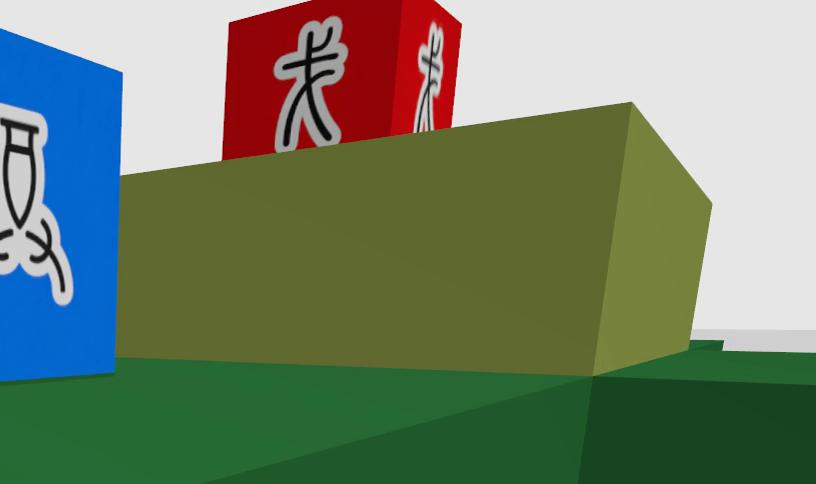KFS_FAKE: (223, 0, 462, 159), (274, 16, 348, 150), (413, 21, 443, 132)
KFS_REAL: (0, 28, 119, 380), (0, 106, 73, 305), (274, 16, 348, 149), (413, 22, 443, 132)
